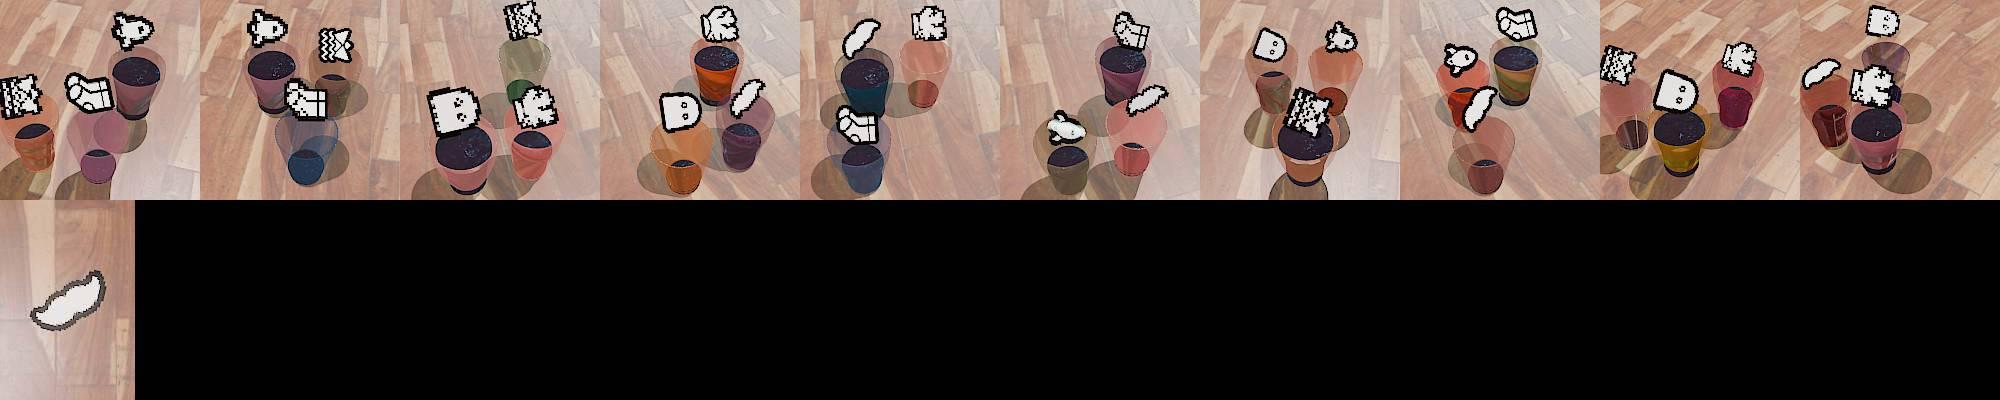icon: (28, 271, 108, 332), (424, 86, 483, 138), (1282, 87, 1334, 140), (279, 77, 329, 123), (0, 73, 45, 123), (63, 71, 116, 113), (511, 85, 560, 130), (1651, 68, 1701, 112), (1848, 64, 1896, 109), (105, 13, 157, 53), (723, 77, 767, 120), (1461, 85, 1499, 134), (658, 92, 702, 134), (244, 8, 289, 48), (833, 105, 879, 144), (503, 0, 544, 42), (841, 19, 881, 61), (1111, 11, 1153, 51), (1599, 44, 1638, 87), (700, 5, 741, 45), (1495, 6, 1539, 43), (1045, 109, 1087, 146), (1126, 84, 1170, 118), (1250, 26, 1289, 64), (911, 5, 949, 43), (317, 27, 356, 64), (1720, 42, 1757, 79), (1441, 43, 1480, 78), (1799, 58, 1841, 89), (1322, 20, 1360, 53), (1866, 5, 1902, 39)
